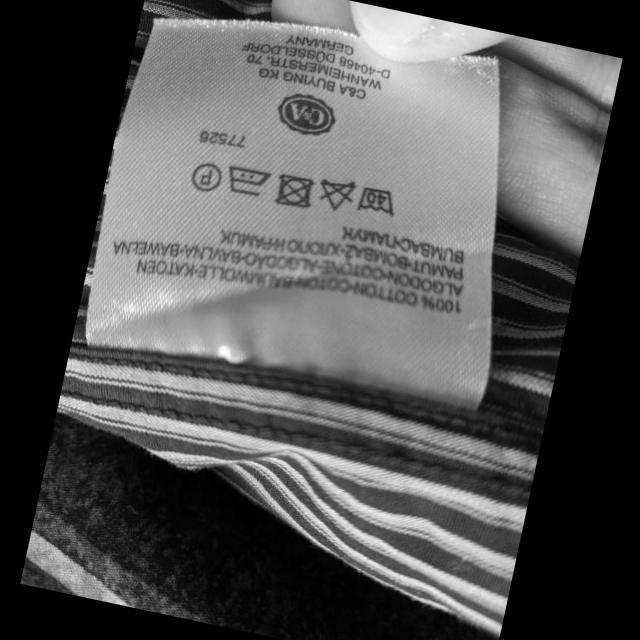40C: (352, 181, 402, 220)
DN_bleach: (311, 169, 359, 216)
DN_tumble_dry: (268, 167, 319, 212)
iron_medium: (220, 158, 273, 200)
normal_dry_clean_solvents: (184, 156, 227, 196)
